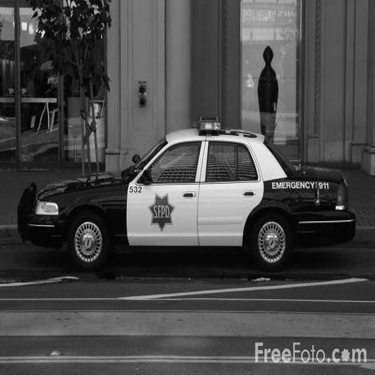car: (20, 114, 363, 284)
